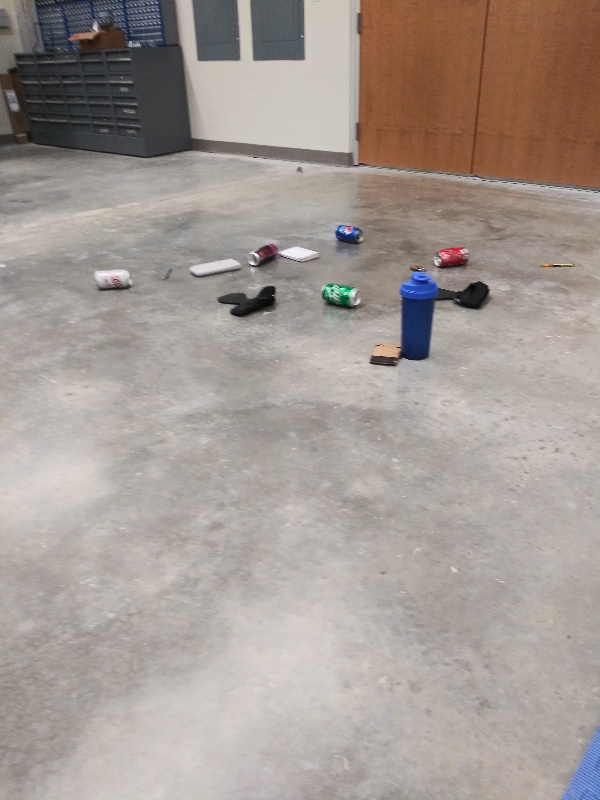can: (318, 280, 363, 310), (92, 267, 135, 292), (431, 243, 472, 269), (245, 239, 282, 267), (332, 221, 365, 243)
